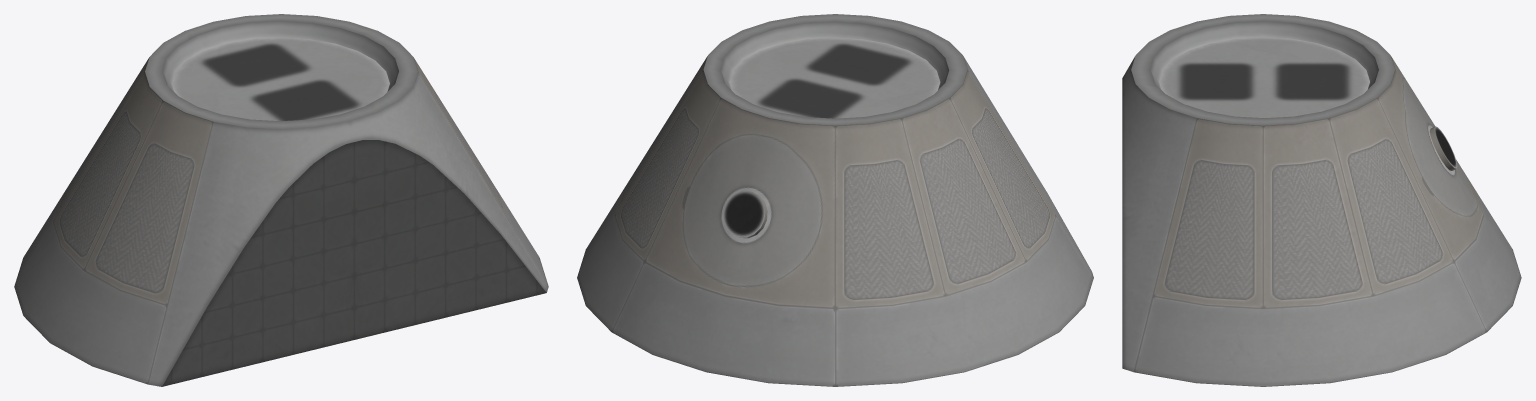
The model's file is Alnair_Crew_1_Interior.obj.
The picture shows the model from 3 angles, left to right: view 1: azimuth 30°, elevation 25°; view 2: azimuth 150°, elevation 25°; view 3: azimuth 270°, elevation 25°; orthographic projection. The views are drawn at different scales.
Visible parts, largest first — view 1: Alnair_Crew_1_Interior; view 2: Alnair_Crew_1_Interior, Alnair_Crew_1_Interior_Window; view 3: Alnair_Crew_1_Interior, Alnair_Crew_1_Interior_Window.
Boxes of the visible parts, x1,y1,x2,y2 form: Alnair_Crew_1_Interior: [14, 14, 548, 386]; Alnair_Crew_1_Interior: [577, 14, 1093, 386]; Alnair_Crew_1_Interior_Window: [723, 191, 765, 237]; Alnair_Crew_1_Interior: [1122, 14, 1521, 386]; Alnair_Crew_1_Interior_Window: [1434, 126, 1457, 168].
Bounding box in the file's own units: 1.84 × 0.8145 × 1.42.
